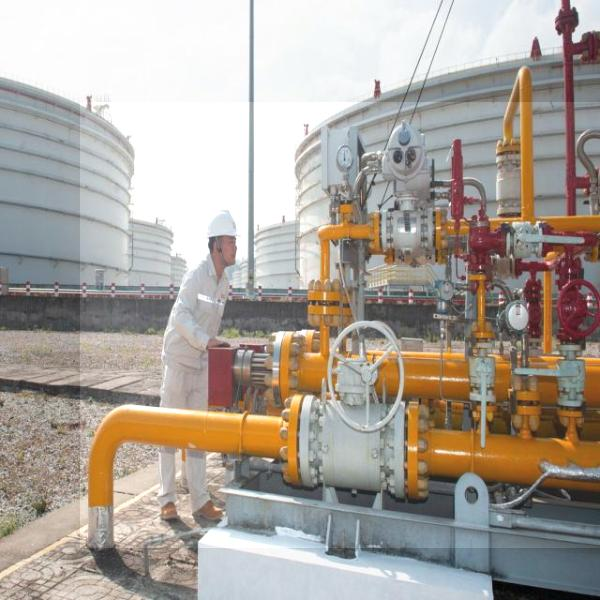no leak: (80, 102, 600, 548)
